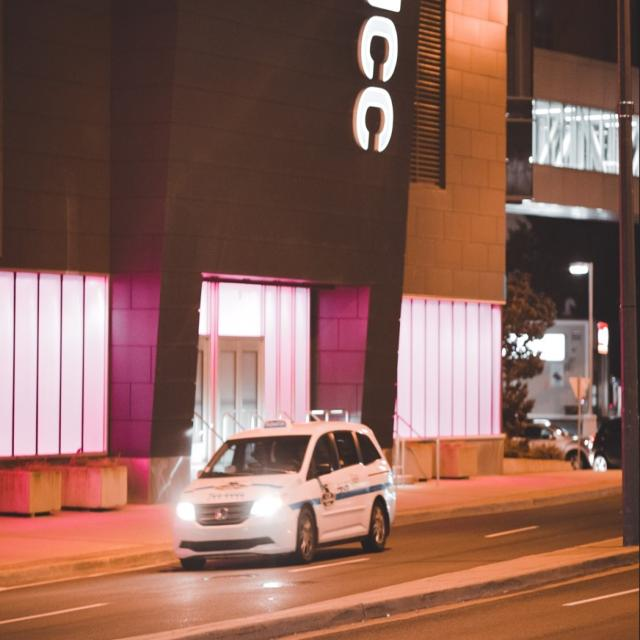car: (176, 419, 395, 559)
